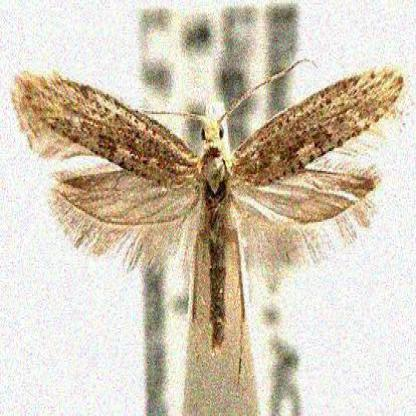plutella: (11, 67, 415, 412)
